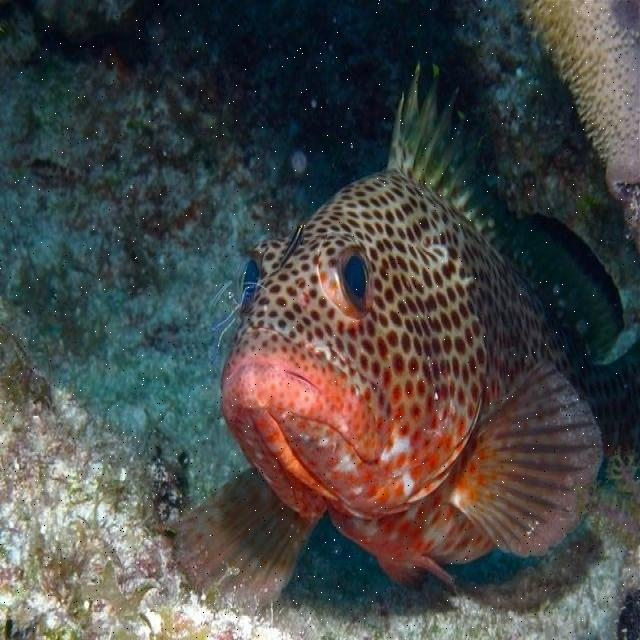fish: (153, 60, 639, 609)
